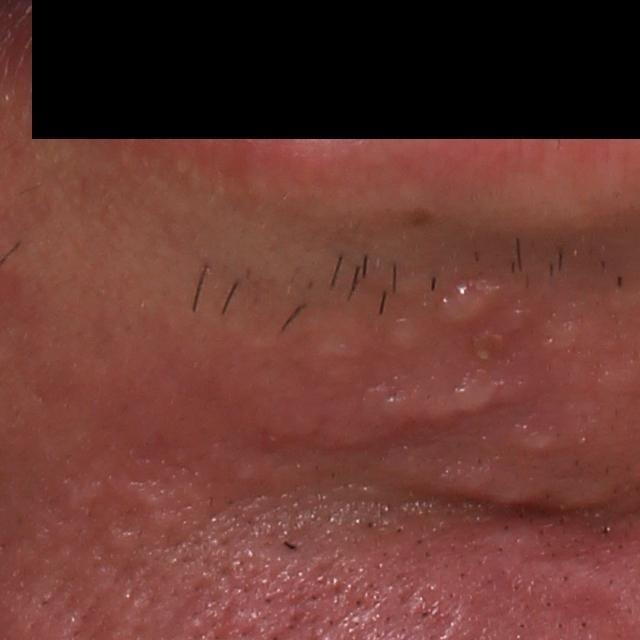hypertrophic_scar: (389, 456, 626, 518), (374, 372, 506, 432), (502, 394, 624, 454), (301, 320, 378, 381), (426, 280, 510, 330), (537, 300, 608, 353), (385, 315, 437, 356)
